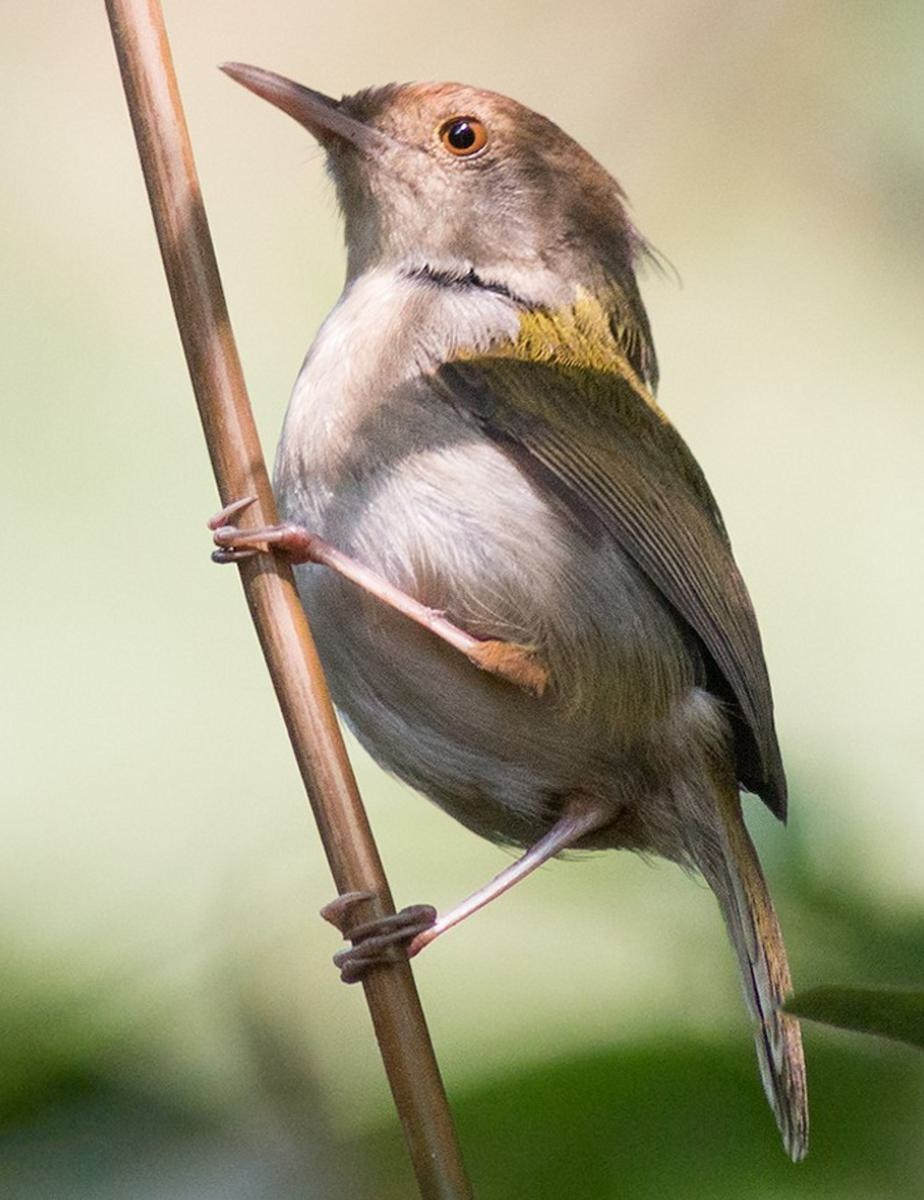tailorbird: (200, 34, 881, 1186)
